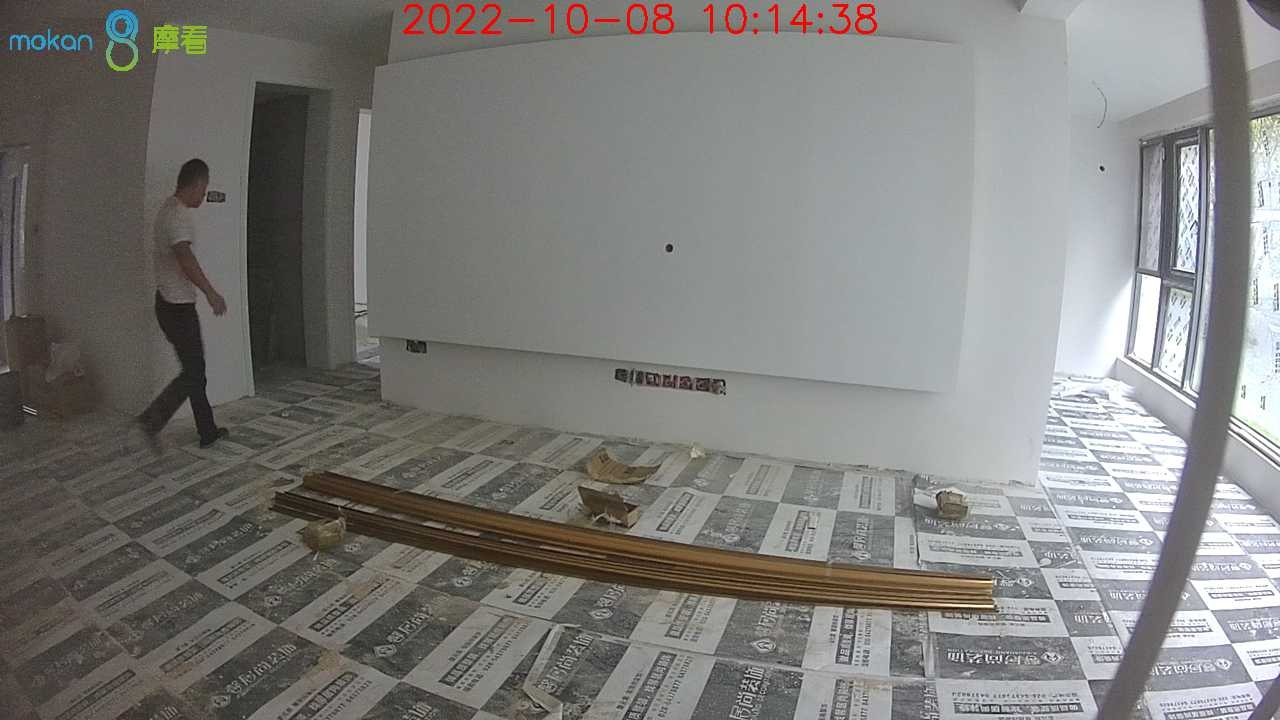people: (138, 159, 230, 454)
window: (1129, 108, 1280, 457)
